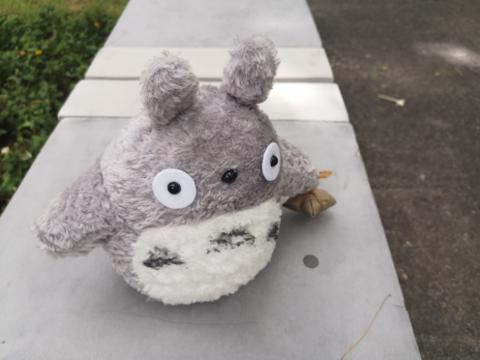totoro: (28, 33, 338, 312)
